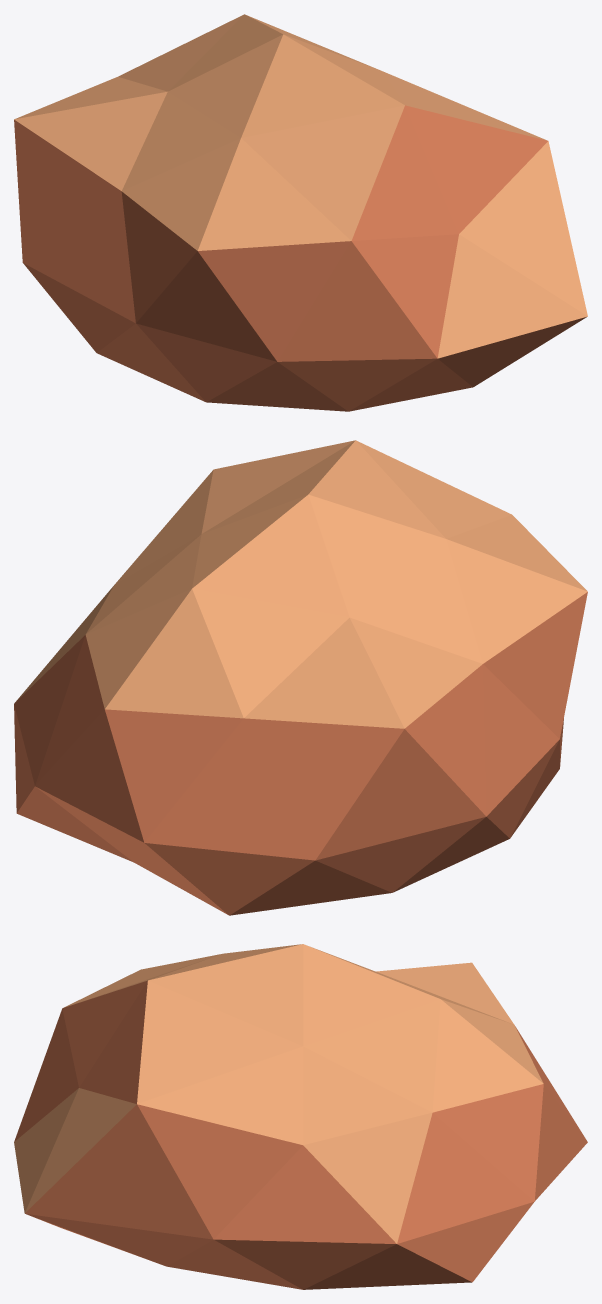
The model's file is rock_sandstone_a.glb.
3 views of the same model, one above another, from view 1: azimuth 30°, elevation 25°; view 2: azimuth 150°, elevation 25°; view 3: azimuth 270°, elevation 25° (orthographic). The views are drawn at different scales.
Visible parts, largest first — view 1: rock_sandstone_a; view 2: rock_sandstone_a; view 3: rock_sandstone_a.
Boxes of the visible parts, x1=… form: rock_sandstone_a: x1=14, y1=14, x2=587, y2=411; rock_sandstone_a: x1=14, y1=440, x2=587, y2=915; rock_sandstone_a: x1=14, y1=944, x2=587, y2=1289.
Size of the model in its own units: 1.95 by 1.17 by 2.37.
